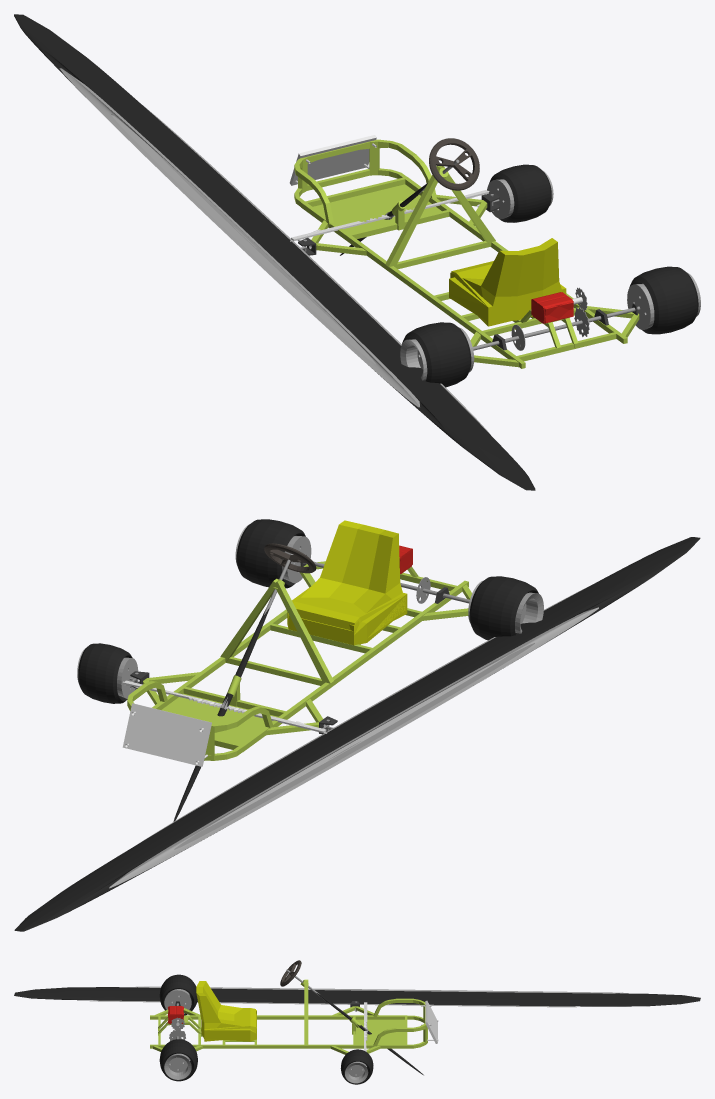
The model's file is solidWorksGoKart.fbx.
3 views of the same model, one above another, from view 1: azimuth 30°, elevation 25°; view 2: azimuth 150°, elevation 25°; view 3: azimuth 270°, elevation 25° (orthographic). The views are drawn at different scales.
Parts seen in each view (by area): view 1: rearTire01.001, Frame, frontLeftWheel.001, Seat, rearTire, rearTire01, rearTire01.002, signHolder, SteeringWheel, electricEngine, rearRightWheel, rearLeftWheel (+2 smaller); view 2: rearTire01.001, Frame, Seat, frontLeftWheel.001, signHolder, rearTire01, rearTire, rearTire01.002, rearLeftWheel, SteeringWheel, Sphere, steeringRack (+2 smaller); view 3: rearTire01.001, Frame, Seat, frontLeftWheel.001, rearTire, rearTire01, rearRightWheel, rearTire01.002, rearLeftWheel, frontLeftWheel.000, signHolder, Sphere (+2 smaller).
Part boxes in pixels (x1,y1,x2,y2): rearTire01.001: (14, 14, 535, 490); Frame: (294, 139, 639, 368); frontLeftWheel.001: (59, 68, 489, 433); Seat: (449, 238, 566, 326); rearTire: (629, 266, 698, 334); rearTire01: (402, 322, 471, 387); rearTire01.002: (489, 164, 551, 222); signHolder: (289, 135, 376, 185); SteeringWheel: (429, 138, 479, 190); electricEngine: (531, 292, 573, 323); rearRightWheel: (627, 272, 700, 329); rearLeftWheel: (400, 327, 474, 380); rearTire01.001: (14, 537, 700, 931); Frame: (127, 561, 471, 760); Seat: (287, 520, 407, 645); frontLeftWheel.001: (109, 585, 598, 888); signHolder: (122, 703, 211, 766); rearTire01: (469, 576, 538, 640); rearTire: (236, 519, 305, 588); rearTire01.002: (78, 643, 132, 703); rearLeftWheel: (468, 580, 543, 633); SteeringWheel: (264, 543, 316, 573); Sphere: (173, 608, 269, 821); steeringRack: (123, 680, 326, 733); rearTire01.001: (14, 987, 700, 1006); Frame: (150, 979, 427, 1054); Seat: (196, 981, 256, 1041); frontLeftWheel.001: (90, 986, 622, 1007); rearTire: (159, 1039, 197, 1081); rearTire01: (159, 974, 197, 1015); rearRightWheel: (164, 1053, 191, 1079); rearTire01.002: (340, 1049, 373, 1084); rearLeftWheel: (164, 989, 191, 1013); frontLeftWheel.000: (345, 1061, 368, 1083); signHolder: (425, 1000, 437, 1043); Sphere: (317, 993, 423, 1075).
Bounding box in the file's own units: 276 × 161 × 884.
